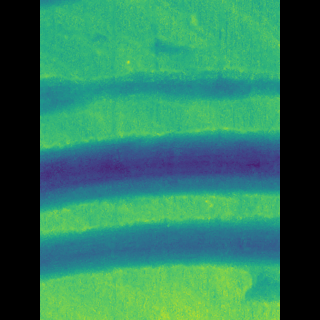Loch: (68, 129, 250, 215), (69, 216, 250, 284), (69, 59, 250, 118)
